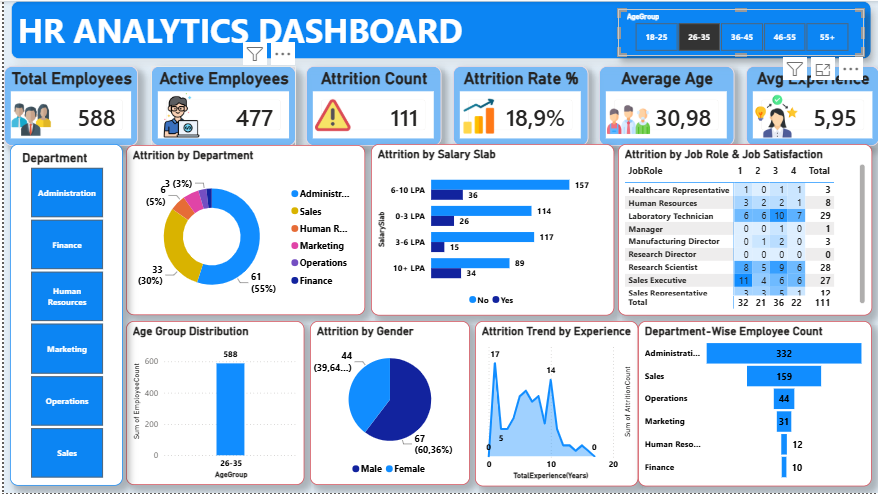

What the dashboard file says about the page in this screenshot:
{"tool":"powerbi","page":{"name":"Page 1","canvas":[1280,720],"ordinal":0},"visuals":[{"type":"textbox","box":[10,0,1259,85],"z":0},{"type":"cardVisual","title":"Total Employees","fields":{"Data":["CountNonNull(HR_Analytics-4(1).EmpID)"]},"box":[0,95.6,196.4,116.5],"z":1000},{"type":"cardVisual","title":"Active Employees","fields":{"Data":["CountNonNull(HR_Analytics-4(1).EmployeeCount)"]},"box":[214.7,95.6,212.1,116.5],"z":2000},{"type":"cardVisual","title":"Attrition Count","fields":{"Data":["Sum(HR_Analytics-4(1).AttritionCount)"]},"box":[442.5,95.6,197.7,116.5],"z":3000},{"type":"cardVisual","title":"Attrition Rate %","fields":{"Data":["HR_Analytics-4(1).Attrition Rate %"]},"box":[657.2,95.6,197.7,116.5],"z":4000},{"type":"cardVisual","title":"Average Age ","fields":{"Data":["Avg(HR_Analytics-4(1).Age)"]},"box":[870.5,95.6,197.7,116.5],"z":5000},{"type":"cardVisual","title":"Avg Experience","fields":{"Data":["Avg(HR_Analytics-4(1).YearsatCompany)"]},"box":[1085.2,95.6,195.1,116.5],"z":6000},{"type":"image","box":[1095.8,136.8,69.1,64.8],"z":7000},{"type":"image","box":[882.7,133.9,63.4,77.8],"z":8000},{"type":"image","box":[668.2,139.7,51.8,59],"z":9000},{"type":"image","box":[455,136.8,51.8,61.9],"z":10000},{"type":"image","box":[226.1,133.9,69.1,64.8],"z":11000},{"type":"image","box":[10.1,136.8,59,74.9],"z":12000},{"type":"donutChart","title":"Attrition by Department","fields":{"Category":["HR_Analytics-4(1).Department"],"Y":["Sum(HR_Analytics-4(1).AttritionCount)"]},"box":[179,210,350,249],"z":13000},{"type":"clusteredBarChart","title":"Attrition by Salary Slab","fields":{"Category":["HR_Analytics-4(1).SalarySlab"],"Y":["CountNonNull(HR_Analytics-4(1).EmpID)"],"Series":["HR_Analytics-4(1).Attrition"]},"box":[537,209,355.7,251],"z":14000},{"type":"pivotTable","title":"Attrition by Job Role & Job Satisfaction","fields":{"Rows":["HR_Analytics-4(1).JobRole"],"Values":["Sum(HR_Analytics-4(1).AttritionCount)"],"Columns":["HR_Analytics-4(1).JobSatisfaction"]},"box":[898,209,371.5,251],"z":15000},{"type":"columnChart","title":"Age Group Distribution","fields":{"Category":["HR_Analytics-4(1).AgeGroup"],"Y":["Sum(HR_Analytics-4(1).EmployeeCount)"]},"box":[179,469,261,240.5],"z":16000},{"type":"pieChart","title":"Attrition by Gender","fields":{"Category":["HR_Analytics-4(1).Gender"],"Y":["Sum(HR_Analytics-4(1).AttritionCount)"]},"box":[448,469,234,240],"z":17000},{"type":"areaChart","title":"Attrition Trend by Experience","fields":{"Category":["HR_Analytics-4(1).TotalExperience(Years)"],"Y2":["Sum(HR_Analytics-4(1).AttritionCount)"]},"box":[689,469,239,242],"z":18000},{"type":"funnel","title":"Department-Wise Employee Count","fields":{"Category":["HR_Analytics-4(1).Department"],"Y":["CountNonNull(HR_Analytics-4(1).EmpID)"]},"box":[928,469,342,242],"z":19000},{"type":"slicer","fields":{"Values":["HR_Analytics-4(1).Department"]},"box":[9,209,165,500],"z":19001},{"type":"slicer","fields":{"Values":["HR_Analytics-4(1).AgeGroup"]},"box":[898,12,361,68],"z":19002}]}

Visuals, with their boxes in screenshot pixels (x1, y1, x2, y2), scaled from the page's 1280x720 canvas onto the 878x494 screenshot:
textbox: x1=7, y1=0, x2=870, y2=58
"Total Employees" cardVisual: x1=0, y1=66, x2=135, y2=146
"Active Employees" cardVisual: x1=147, y1=66, x2=293, y2=146
"Attrition Count" cardVisual: x1=304, y1=66, x2=439, y2=146
"Attrition Rate %" cardVisual: x1=451, y1=66, x2=586, y2=146
"Average Age " cardVisual: x1=597, y1=66, x2=733, y2=146
"Avg Experience" cardVisual: x1=744, y1=66, x2=877, y2=146
image: x1=752, y1=94, x2=799, y2=138
image: x1=605, y1=92, x2=649, y2=145
image: x1=458, y1=96, x2=494, y2=136
image: x1=312, y1=94, x2=348, y2=136
image: x1=155, y1=92, x2=202, y2=136
image: x1=7, y1=94, x2=47, y2=145
"Attrition by Department" donutChart: x1=123, y1=144, x2=363, y2=315
"Attrition by Salary Slab" clusteredBarChart: x1=368, y1=143, x2=612, y2=316
"Attrition by Job Role & Job Satisfaction" pivotTable: x1=616, y1=143, x2=871, y2=316
"Age Group Distribution" columnChart: x1=123, y1=322, x2=302, y2=487
"Attrition by Gender" pieChart: x1=307, y1=322, x2=468, y2=486
"Attrition Trend by Experience" areaChart: x1=473, y1=322, x2=637, y2=488
"Department-Wise Employee Count" funnel: x1=637, y1=322, x2=871, y2=488
slicer - HR_Analytics-4(1).Department: x1=6, y1=143, x2=119, y2=486
slicer - HR_Analytics-4(1).AgeGroup: x1=616, y1=8, x2=864, y2=55
